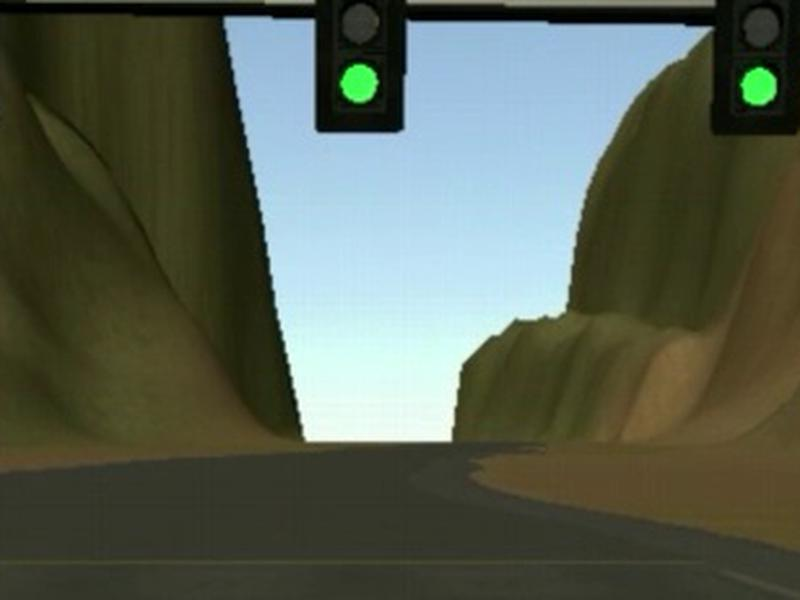Green: (316, 1, 406, 133), (711, 1, 800, 134)
